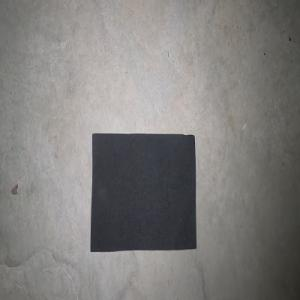PaintChip: (90, 133, 196, 252)
